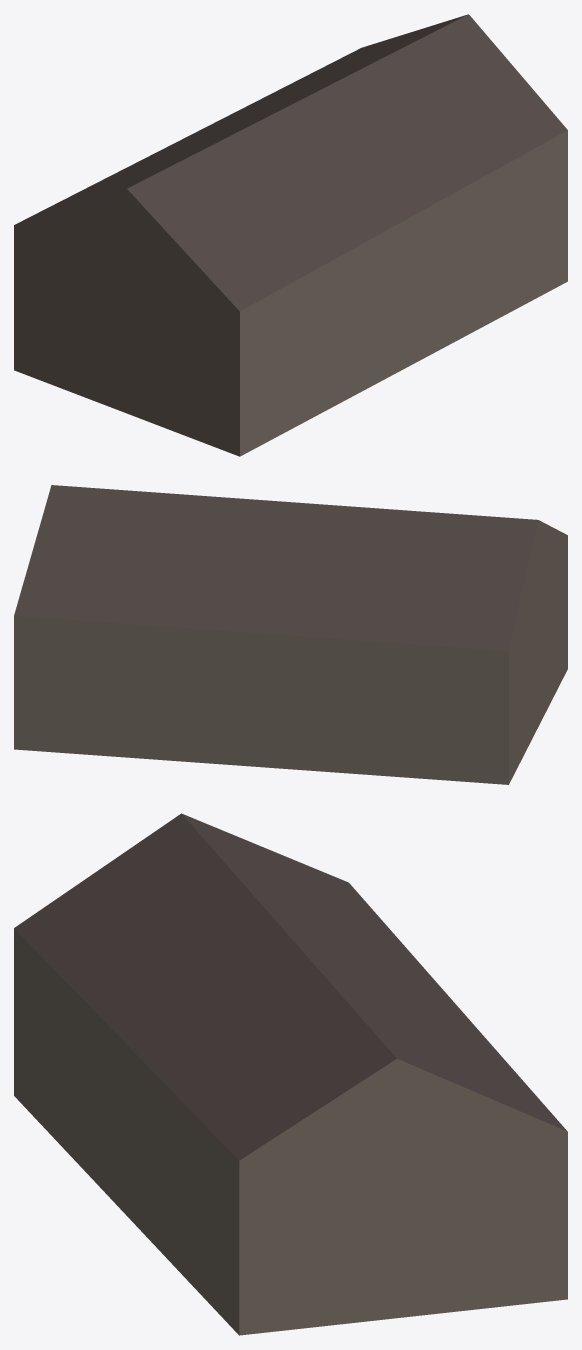
The picture shows the model from 3 angles, top to bottom: view 1: azimuth 30°, elevation 25°; view 2: azimuth 150°, elevation 25°; view 3: azimuth 270°, elevation 25°; orthographic projection. The views are drawn at different scales.
Visible parts, largest first — view 1: HP-w1198875348; view 2: HP-w1198875348; view 3: HP-w1198875348.
Part boxes in pixels (<box>): HP-w1198875348: <box>14,14,567,456</box>; HP-w1198875348: <box>14,485,567,784</box>; HP-w1198875348: <box>14,813,567,1335</box>.
Bounding box in the file's own units: 21.91 × 9.29 × 17.97.
